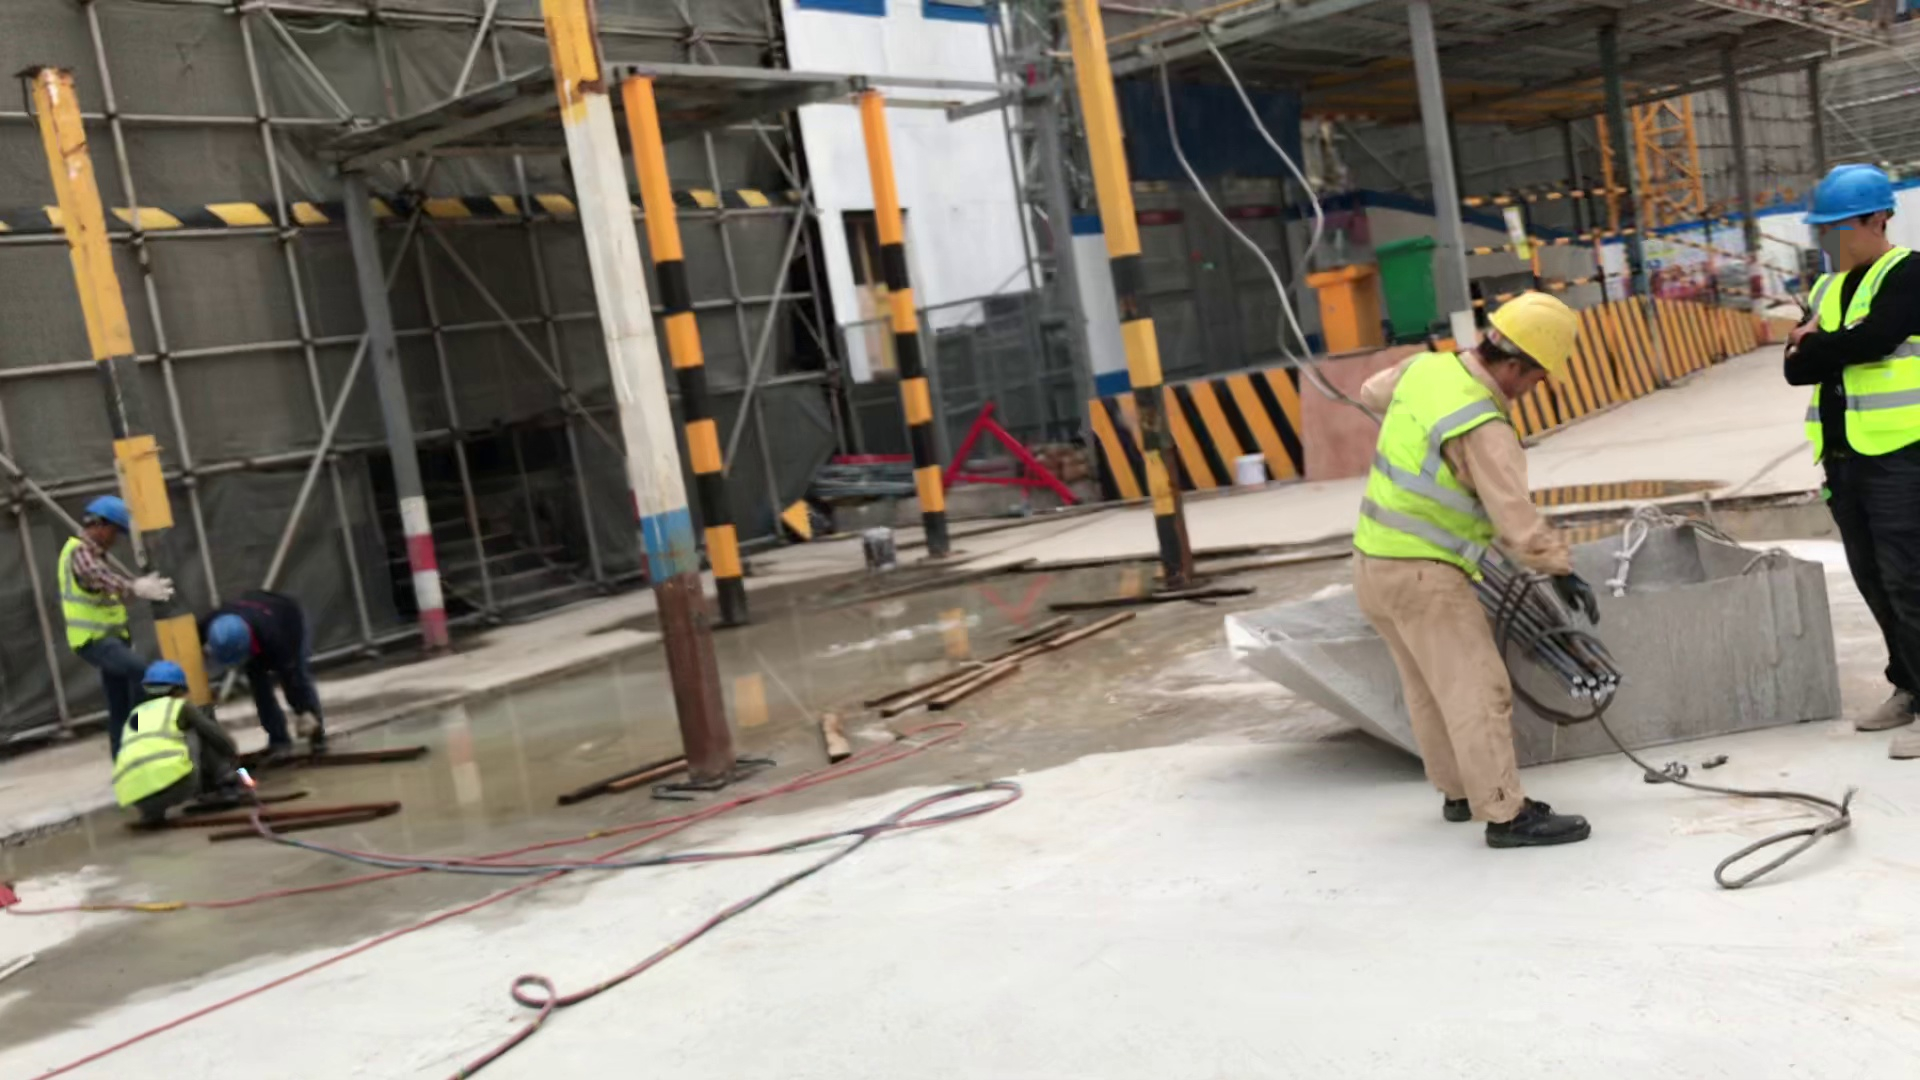fence: (1456, 185, 1817, 332)
helmet: (1485, 276, 1592, 393), (1793, 145, 1904, 237), (194, 610, 262, 676), (135, 650, 204, 704), (63, 491, 146, 535)
hopper: (1185, 514, 1857, 778)
person: (1333, 280, 1627, 864), (1779, 150, 1920, 815), (40, 484, 188, 768), (189, 574, 346, 788), (105, 643, 256, 854)
rebar: (1476, 557, 1633, 720)
slogan: (1491, 201, 1552, 272)
vest: (1359, 350, 1506, 581), (1787, 247, 1920, 465), (103, 696, 206, 824), (39, 527, 132, 662)
